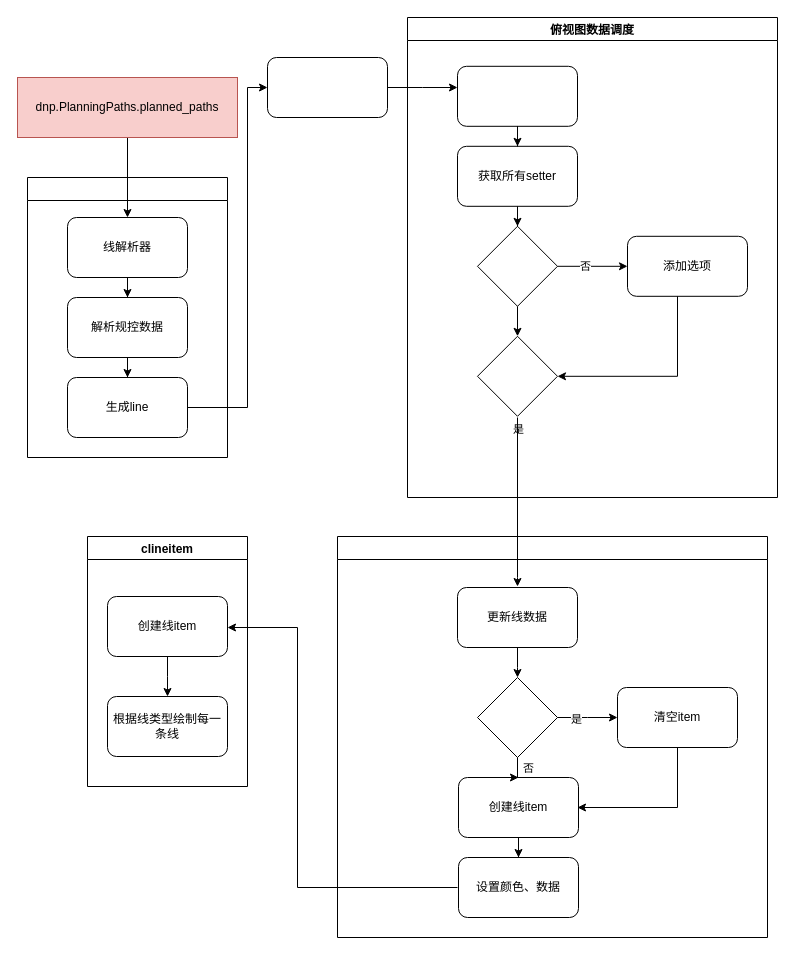
Some shapes in this 795 by 955 pixel diagram are drawn without their labels. The box of each missing label's shape, as (x1, y1, x2, y2) in pixels:
topview窗口: (336, 536, 768, 938)
判断包含改名字的数据是否存在: (476, 676, 558, 758)
判断是否包含: (476, 225, 558, 306)
对应框判断: (476, 335, 558, 416)
数据中心: (266, 56, 388, 118)
数据解析: (26, 176, 228, 458)
数据调度: (456, 65, 578, 126)
